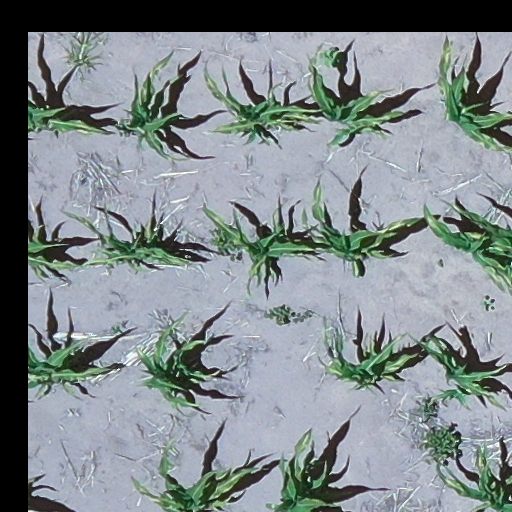planta: (200, 202, 337, 297), (302, 176, 421, 276), (308, 44, 412, 146), (61, 199, 200, 273), (204, 64, 323, 146), (133, 312, 221, 415), (116, 51, 190, 162), (409, 333, 509, 412), (317, 322, 419, 397), (28, 338, 110, 398), (28, 224, 81, 281), (28, 98, 109, 135)
